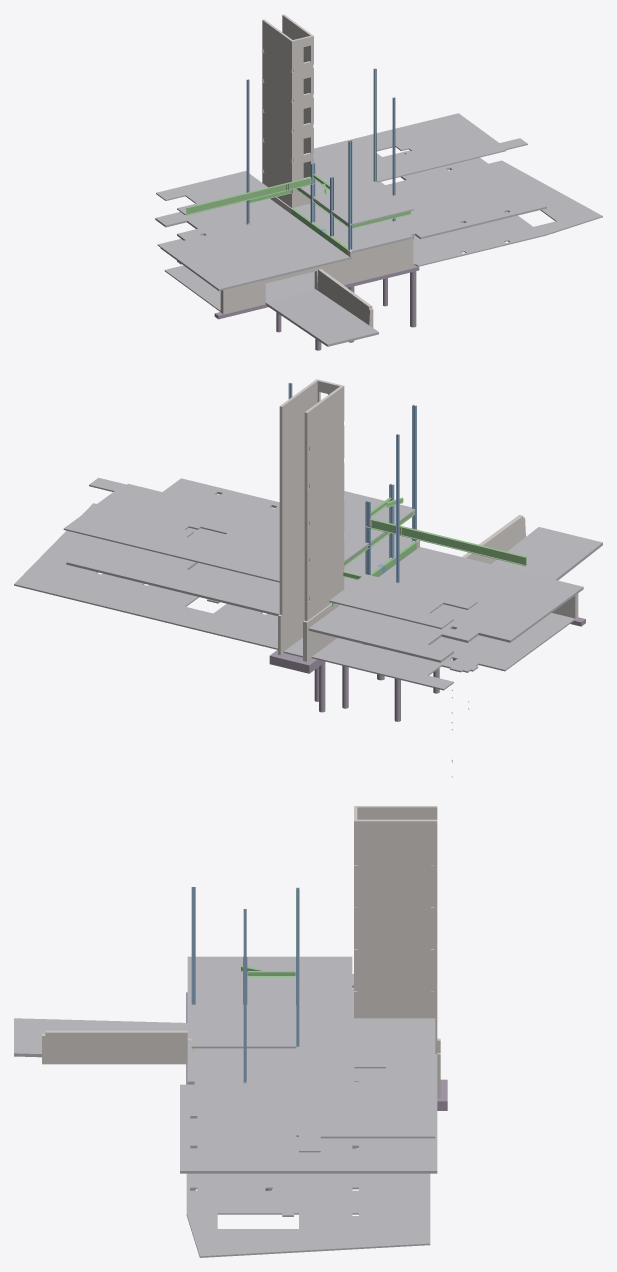
The picture shows the model from 3 angles, top to bottom: view 1: azimuth 30°, elevation 25°; view 2: azimuth 150°, elevation 25°; view 3: azimuth 270°, elevation 25°; orthographic projection. The views are drawn at different scales.
Parts seen in each view (by area): view 1: 4738, 3052, 3306, 3639, 4995; view 2: 4738, 3052, 3639, 3306, 4995; view 3: 4738, 3052, 3306.
Boxes of the visible parts, box(x1,y1,x2,y2) form: 4738: box(155, 113, 602, 346); 3052: box(220, 14, 413, 327); 3306: box(245, 68, 395, 250); 3639: box(186, 174, 413, 254); 4995: box(214, 265, 419, 350); 4738: box(14, 477, 602, 690); 3052: box(278, 379, 578, 661); 3639: box(331, 497, 526, 644); 3306: box(288, 383, 416, 582); 4995: box(269, 617, 585, 721); 4738: box(14, 956, 437, 1257); 3052: box(42, 806, 440, 1118); 3306: box(191, 887, 299, 1082).
Size of the model in its own units: 63.31 by 35 by 51.83.
